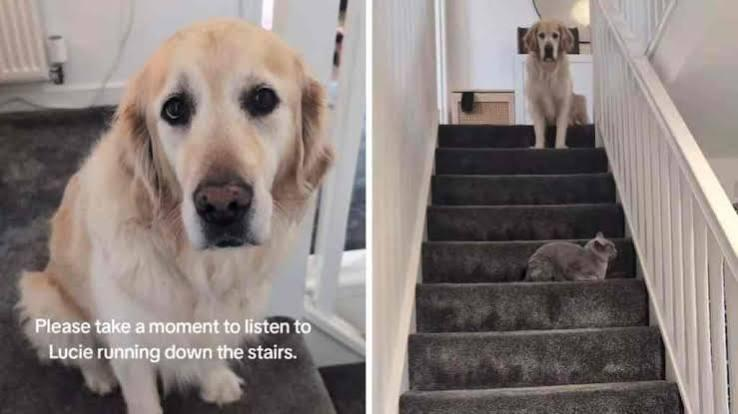adult_dog: (13, 16, 334, 414), (521, 16, 588, 150)
non-dog: (524, 230, 619, 283)
